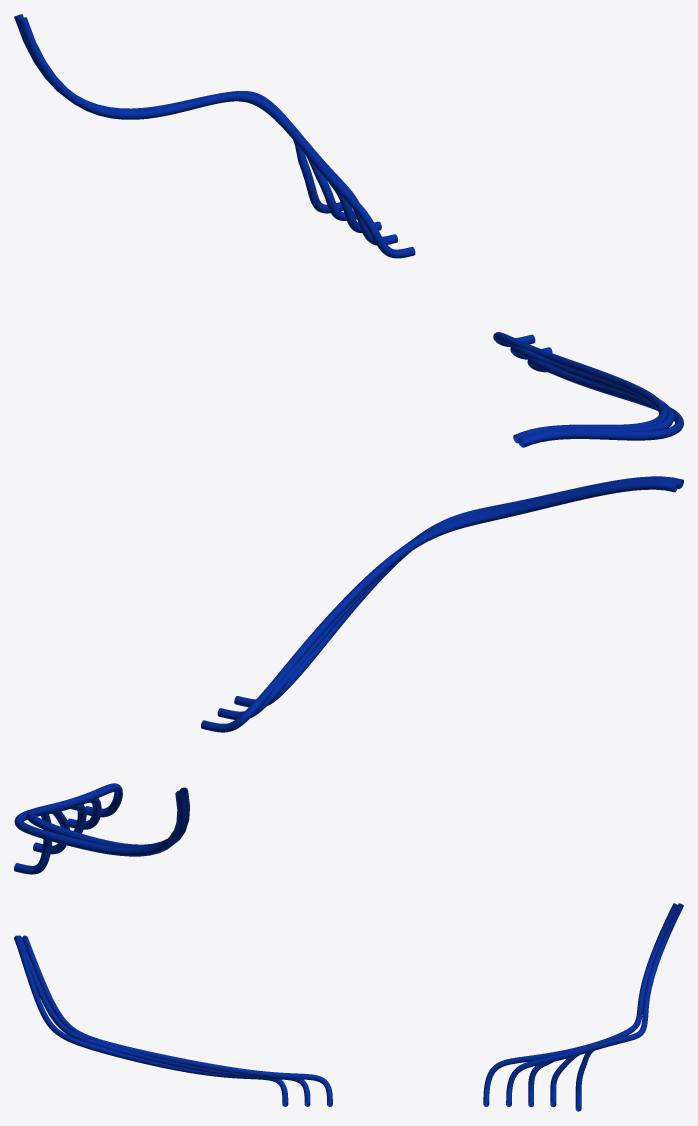
Rendered from cable.fbx.
3 views of the same model, one above another, from view 1: azimuth 30°, elevation 25°; view 2: azimuth 150°, elevation 25°; view 3: azimuth 270°, elevation 25° (orthographic). The views are drawn at different scales.
Parts seen in each view (by area): view 1: cable_1, cable_8, cable_6, cable_7, cable_2, cable_4; view 2: cable_6, cable_2, cable_1, cable_7, cable_8; view 3: cable_6, cable_2, cable_8, cable_1, cable_7, cable_4, cable_5.
Boxes of the visible parts, x1,y1,x2,y2 form: cable_1: (18, 17, 415, 258); cable_8: (519, 359, 683, 447); cable_6: (493, 332, 667, 443); cable_7: (510, 346, 674, 446); cable_2: (14, 14, 397, 245); cable_4: (293, 140, 343, 213); cable_6: (201, 481, 677, 732); cable_2: (14, 790, 185, 856); cable_1: (26, 783, 189, 847); cable_7: (217, 477, 682, 719); cable_8: (234, 476, 683, 707); cable_6: (22, 935, 332, 1106); cable_2: (506, 903, 683, 1106); cable_8: (14, 935, 288, 1106); cable_1: (483, 903, 677, 1106); cable_7: (18, 935, 310, 1106); cable_4: (575, 1050, 593, 1111); cable_5: (550, 1054, 579, 1107).
Bounding box in the file's own units: 8.4 × 6.32 × 29.6.
